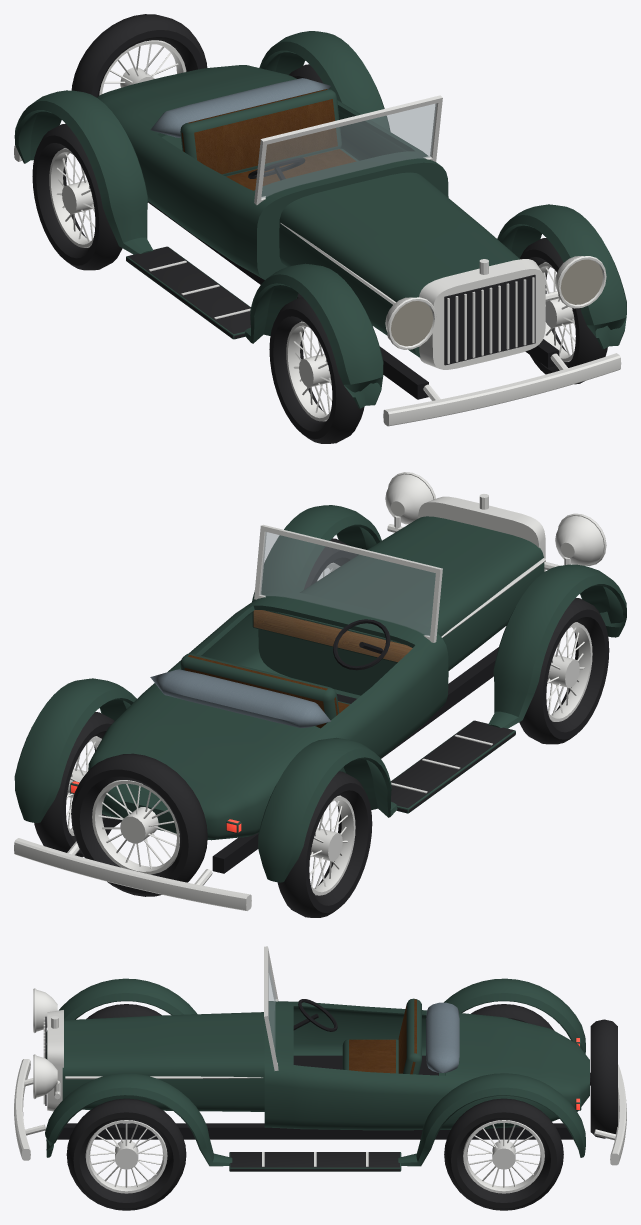
The model's file is roadster.glb.
3 views of the same model, one above another, from view 1: azimuth 30°, elevation 25°; view 2: azimuth 150°, elevation 25°; view 3: azimuth 270°, elevation 25° (orthographic). The views are drawn at different scales.
Visible parts, largest first — view 1: body, wheel_FR, wheel_RR, wheel_FL; view 2: body, wheel_RR, wheel_FR, wheel_RL, wheel_FL; view 3: body, wheel_FL, wheel_RL, wheel_RR, wheel_FR.
Boxes of the visible parts, bbox=[...] form: body: bbox=[14, 14, 626, 426]; wheel_FR: bbox=[269, 297, 364, 443]; wheel_RR: bbox=[32, 123, 122, 270]; wheel_FL: bbox=[520, 238, 607, 384]; body: bbox=[14, 472, 626, 910]; wheel_RR: bbox=[277, 771, 372, 917]; wheel_FR: bbox=[519, 598, 609, 744]; wheel_RL: bbox=[34, 712, 114, 857]; wheel_FL: bbox=[304, 538, 356, 589]; body: bbox=[14, 946, 626, 1171]; wheel_FL: bbox=[66, 1098, 186, 1210]; wheel_RL: bbox=[444, 1098, 563, 1210]; wheel_RR: bbox=[471, 1004, 554, 1030]; wheel_FR: bbox=[86, 1004, 161, 1018].
Size of the model in its own units: 2.04 by 1.53 by 4.71.
11 materials, 3 textured.
